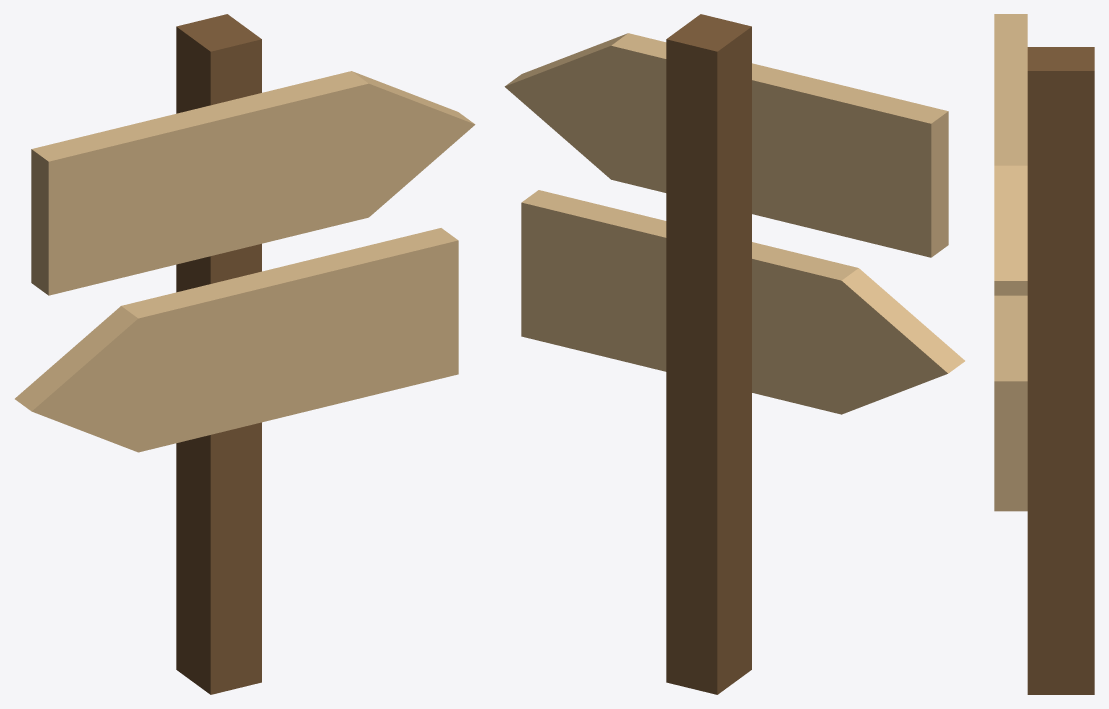
Rendered from TW_SIGN_FORK_A_LOD0.glb.
3 views of the same model, side by side, from view 1: azimuth 30°, elevation 25°; view 2: azimuth 150°, elevation 25°; view 3: azimuth 270°, elevation 25° (orthographic). The views are drawn at different scales.
Parts seen in each view (by area): view 1: TW_SIGN_FORK_A_LOD0; view 2: TW_SIGN_FORK_A_LOD0; view 3: TW_SIGN_FORK_A_LOD0.
Part boxes in pixels (x1,y1,x2,y2): TW_SIGN_FORK_A_LOD0: [15, 14, 475, 694]; TW_SIGN_FORK_A_LOD0: [504, 14, 964, 694]; TW_SIGN_FORK_A_LOD0: [994, 14, 1094, 694].
Bounding box in the file's own units: 1.04 × 1.44 × 0.21.
Materials: 1 (1 with a texture image).
